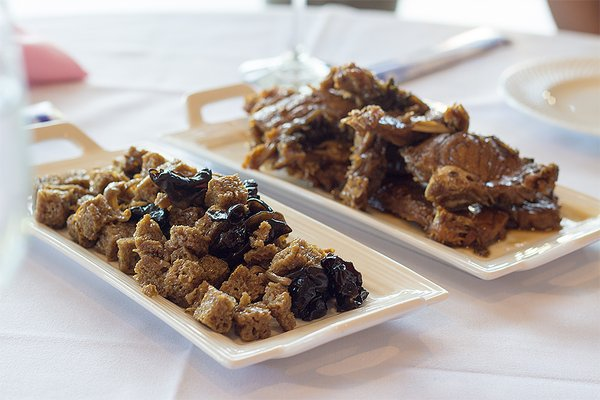curry: (8, 33, 600, 395)
sushi: (241, 61, 572, 257)
